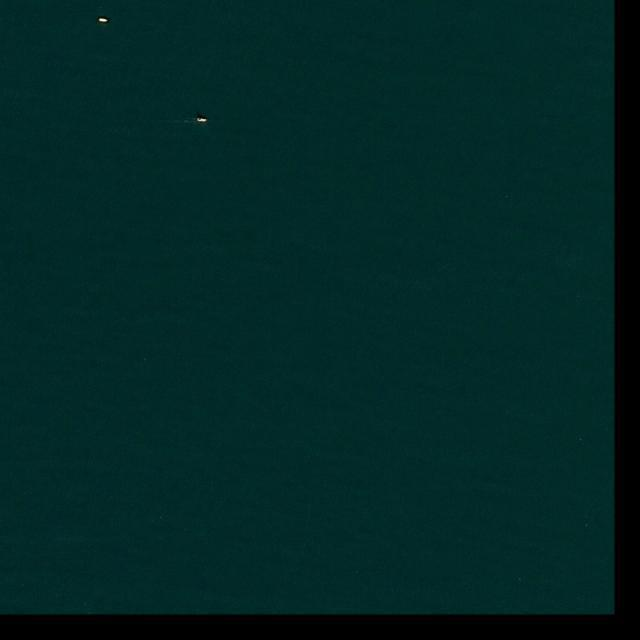ship: (99, 18, 108, 23), (196, 118, 207, 122)
